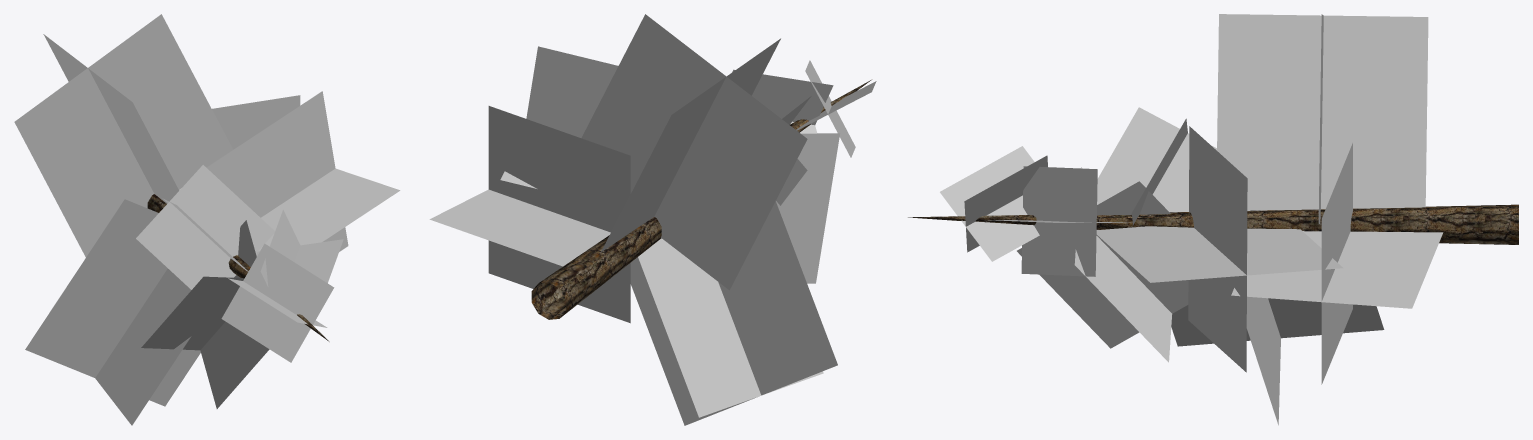
Rendered from pine_bb1.obj.
3 views of the same model, side by side, from view 1: azimuth 30°, elevation 25°; view 2: azimuth 150°, elevation 25°; view 3: azimuth 270°, elevation 25° (orthographic). The views are drawn at different scales.
Parts seen in each view (by area): view 1: plant_pmat3, plant_pmat3_cross, plant_pmat1; view 2: plant_pmat3, plant_pmat3_cross, plant_pmat1; view 3: plant_pmat3_cross, plant_pmat3, plant_pmat1.
Part boxes in pixels (x1,y1,x2,y2): plant_pmat3: [14, 14, 348, 406]; plant_pmat3_cross: [43, 34, 400, 425]; plant_pmat1: [147, 194, 329, 341]; plant_pmat3: [488, 14, 855, 425]; plant_pmat3_cross: [429, 38, 876, 417]; plant_pmat1: [531, 79, 872, 319]; plant_pmat3_cross: [940, 14, 1443, 348]; plant_pmat3: [964, 14, 1352, 425]; plant_pmat1: [908, 204, 1518, 244].
Bounding box in the file's own units: 1.9 × 2.16 × 2.85.
